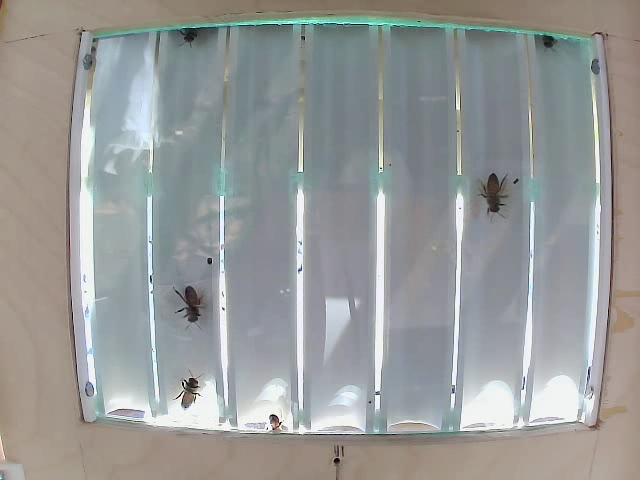bee: (165, 282, 213, 331), (172, 369, 215, 412), (477, 170, 518, 214)
